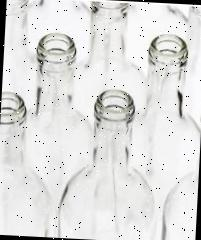glass: (21, 28, 201, 240)
